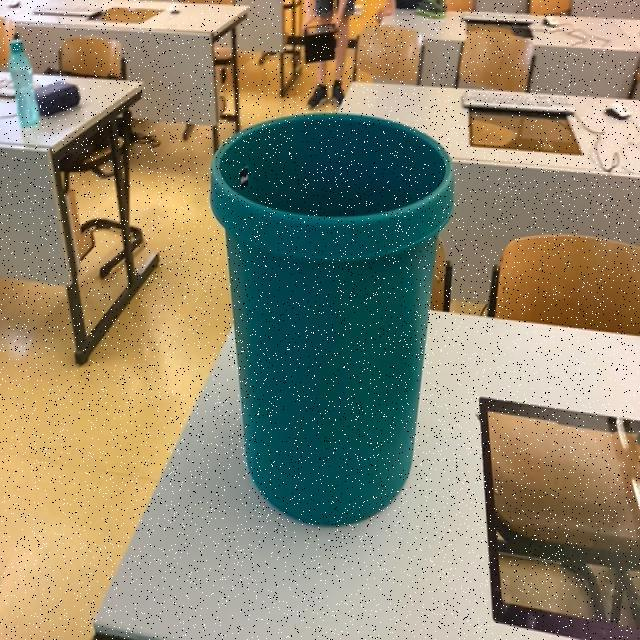garbage container: (173, 90, 476, 526)
